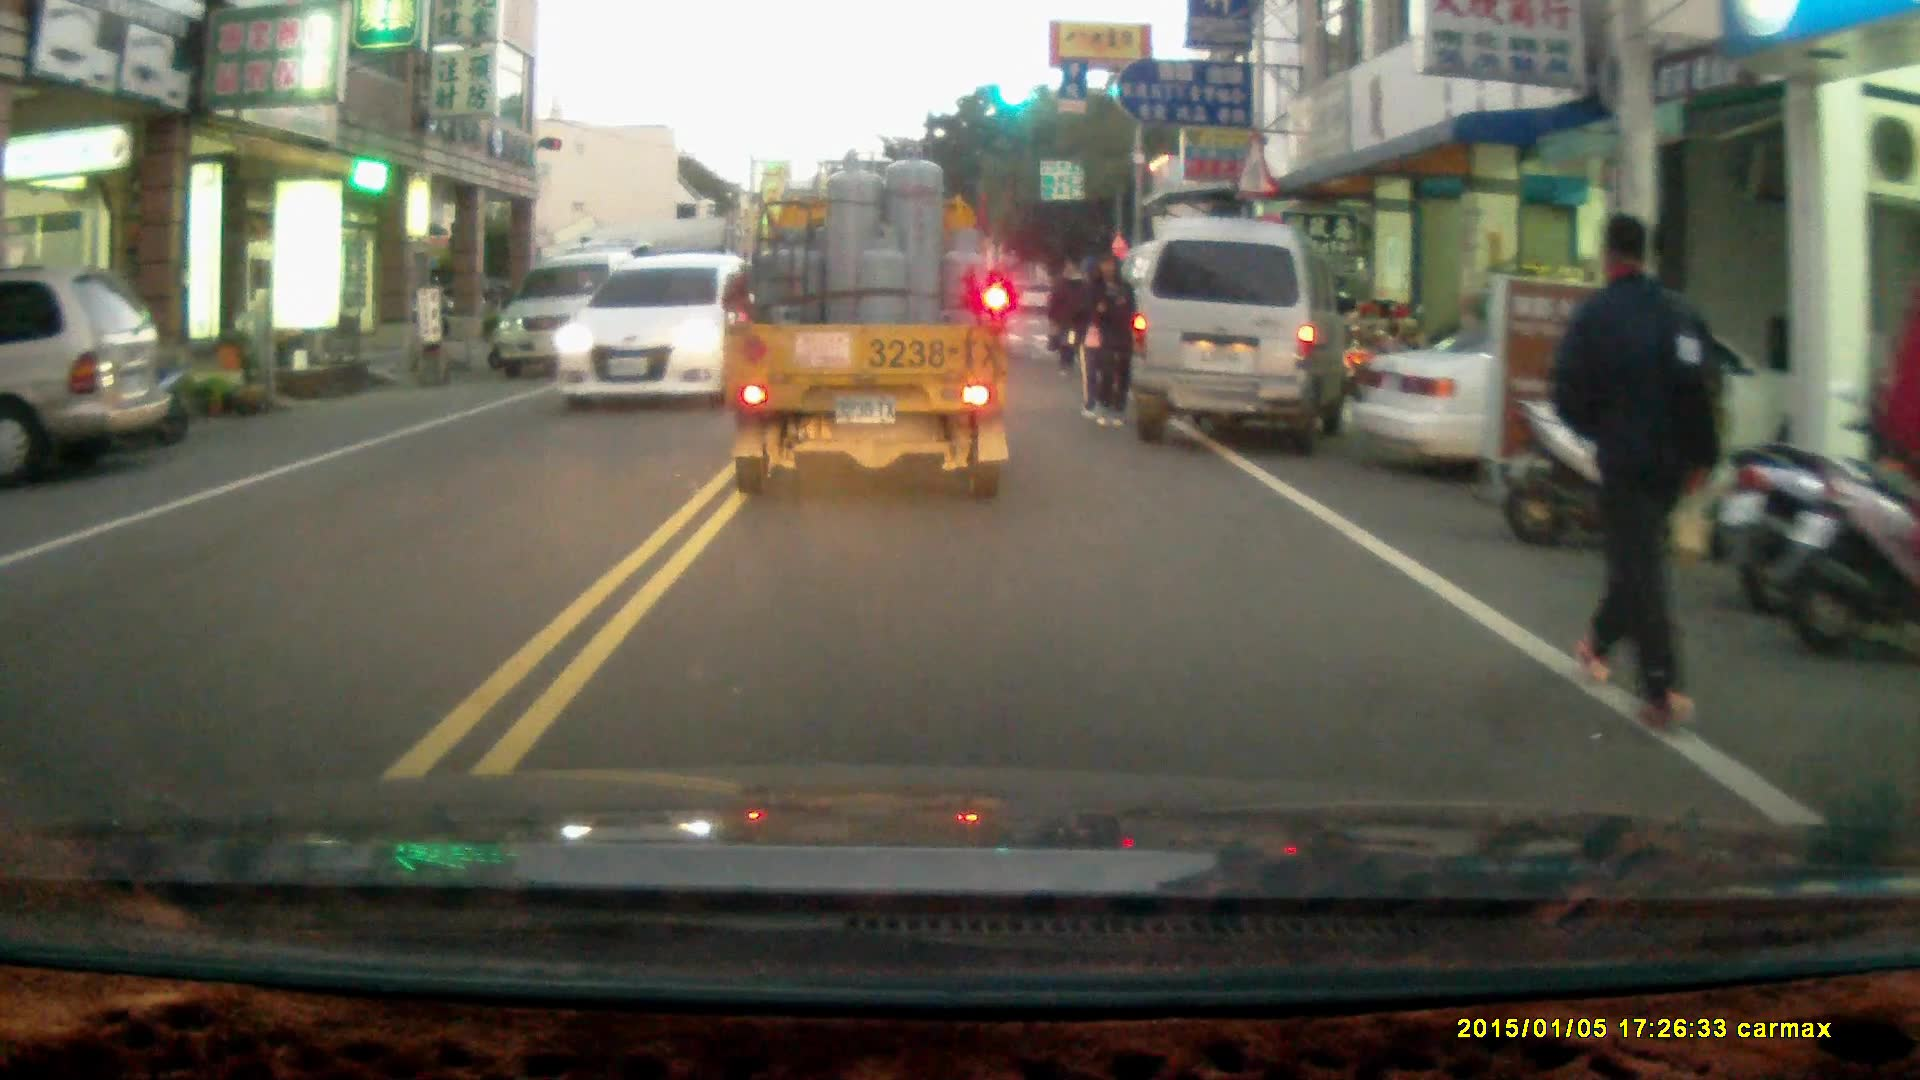pedestrian: (1546, 209, 1727, 740), (1085, 252, 1133, 424), (1046, 253, 1093, 373)
vehicle: (722, 172, 1012, 497), (1351, 303, 1829, 490), (1129, 212, 1353, 449), (551, 249, 800, 404), (1, 263, 172, 474), (489, 250, 664, 377)
